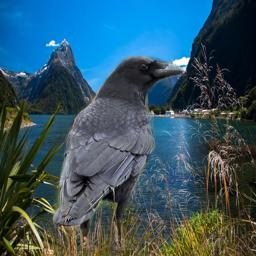Crow: (49, 56, 187, 250)
